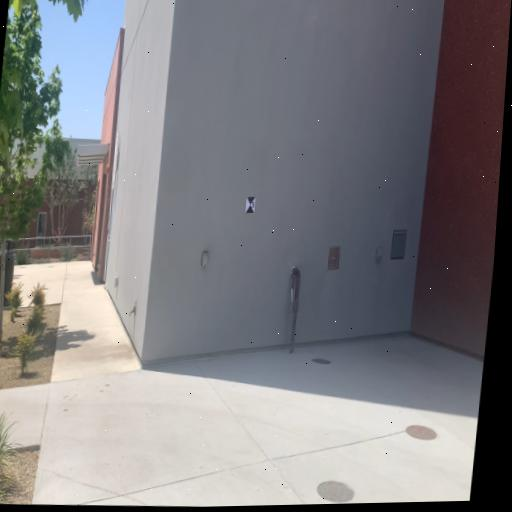target5: (245, 195, 255, 214)
